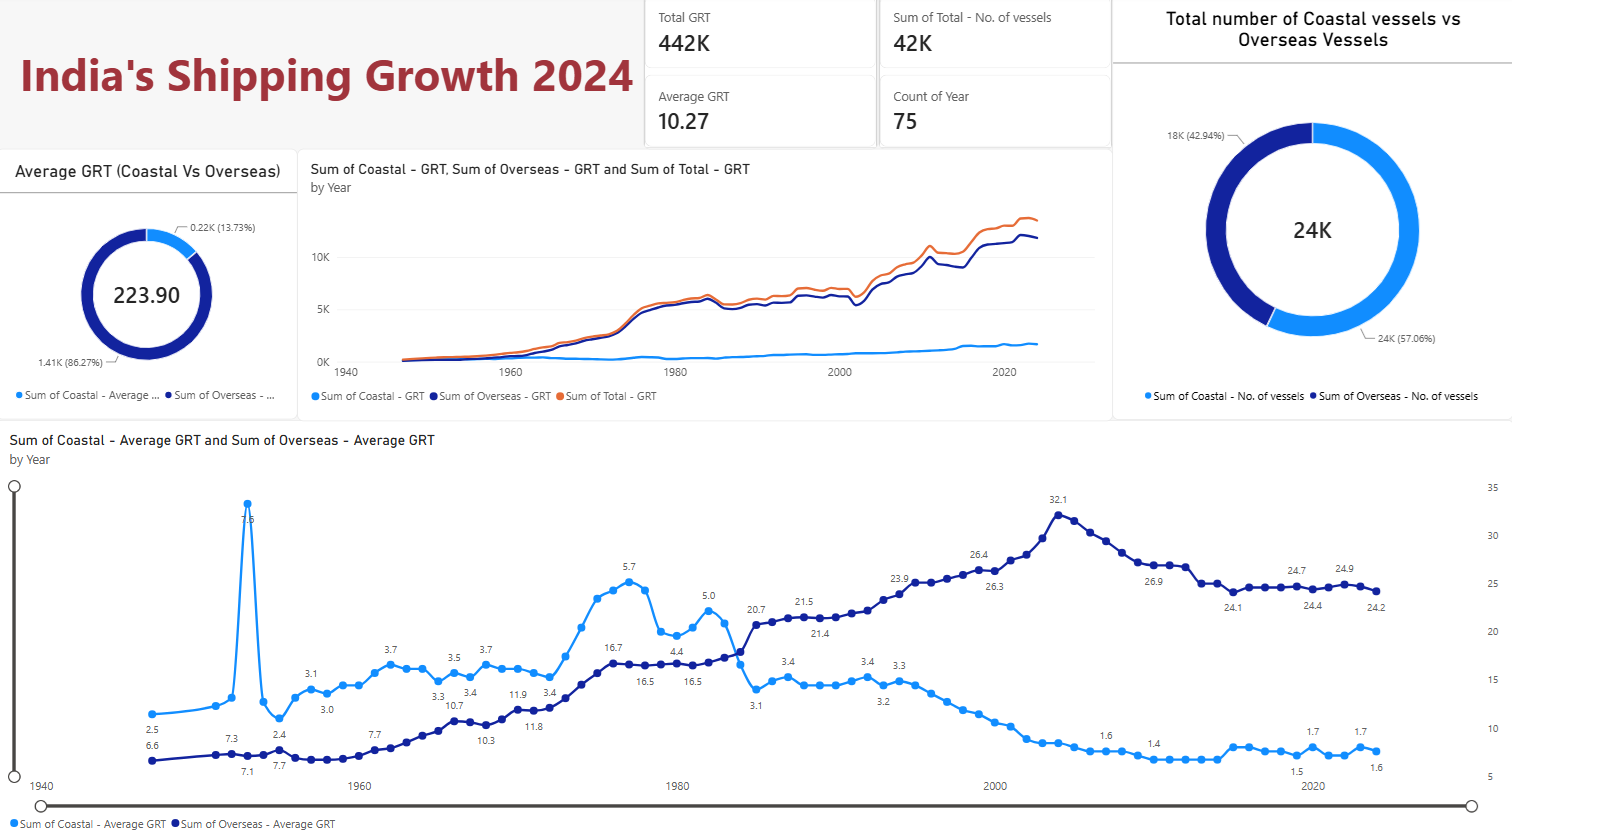

What the dashboard file says about the page in this screenshot:
{"tool":"powerbi","page":{"name":"Page 1","canvas":[1920,1080],"ordinal":0},"visuals":[{"type":"donutChart","title":"Total number of  Coastal vessels vs Overseas Vessels","fields":{"Y":["Sum(Growth_of_Indian_Shipping_1947_1951_to_31_st_December_2024.Coastal - No. of vessels)","Sum(Growth_of_Indian_Shipping_1947_1951_to_31_st_December_2024.Overseas - No. of vessels)"]},"box":[1413.2,0,507.2,537.5],"z":0},{"type":"donutChart","title":"Average GRT (Coastal Vs Overseas)","fields":{"Y":["Sum(Growth_of_Indian_Shipping_1947_1951_to_31_st_December_2024.Coastal - Average GRT)","Sum(Growth_of_Indian_Shipping_1947_1951_to_31_st_December_2024.Overseas - Average GRT)"]},"box":[0,195.1,381.5,342.5],"z":1000},{"type":"lineChart","fields":{"Category":["Growth_of_Indian_Shipping_1947_1951_to_31_st_December_2024.Year"],"Y":["Sum(Growth_of_Indian_Shipping_1947_1951_to_31_st_December_2024.Coastal - Average GRT)"],"Y2":["Sum(Growth_of_Indian_Shipping_1947_1951_to_31_st_December_2024.Overseas - Average GRT)"]},"box":[0,537.5,1920.4,541.9],"z":2000},{"type":"cardVisual","title":"FACTS","fields":{"Data":["Sum(Growth_of_Indian_Shipping_1947_1951_to_31_st_December_2024.Total - No. of vessels)","Count(Growth_of_Indian_Shipping_1947_1951_to_31_st_December_2024.Year)"]},"box":[1116.3,0,297,195.1],"z":3000},{"type":"lineChart","fields":{"Y":["Sum(Growth_of_Indian_Shipping_1947_1951_to_31_st_December_2024.Coastal - GRT)","Sum(Growth_of_Indian_Shipping_1947_1951_to_31_st_December_2024.Overseas - GRT)","Sum(Growth_of_Indian_Shipping_1947_1951_to_31_st_December_2024.Total - GRT)"],"Category":["Growth_of_Indian_Shipping_1947_1951_to_31_st_December_2024.Year"]},"box":[381.5,195.1,1031.7,344.6],"z":4000},{"type":"cardVisual","title":"FACTS","fields":{"Data":["Sum(Growth_of_Indian_Shipping_1947_1951_to_31_st_December_2024.Total - GRT)","Avg(Growth_of_Indian_Shipping_1947_1951_to_31_st_December_2024.Total - Average GRT)"]},"box":[819.3,0,297,195.1],"z":5000},{"type":"textbox","box":[30.3,60.7,789,95.4],"z":6000}]}

Visuals, with their boxes on the page's 1920x1080 design canvas (x1, y1, x2, y2). These are canvas units, not pixel positions in the 1605x831 screenshot, which may show the page scaled, cropped or inside an application window:
"Total number of  Coastal vessels vs Overseas Vessels" donutChart: [1413,0,1920,538]
"Average GRT (Coastal Vs Overseas)" donutChart: [0,195,382,538]
lineChart - Growth_of_Indian_Shipping_1947_1951_to_31_st_December_2024.Year x Sum(Growth_of_Indian_Shipping_1947_1951_to_31_st_December_2024.Coastal - Average GRT): [0,538,1920,1079]
"FACTS" cardVisual: [1116,0,1413,195]
lineChart - Sum(Growth_of_Indian_Shipping_1947_1951_to_31_st_December_2024.Coastal - GRT) x Sum(Growth_of_Indian_Shipping_1947_1951_to_31_st_December_2024.Overseas - GRT): [382,195,1413,540]
"FACTS" cardVisual: [819,0,1116,195]
textbox: [30,61,819,156]
